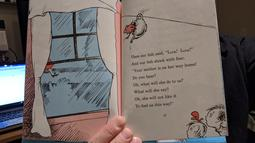text block: (128, 46, 202, 110)
